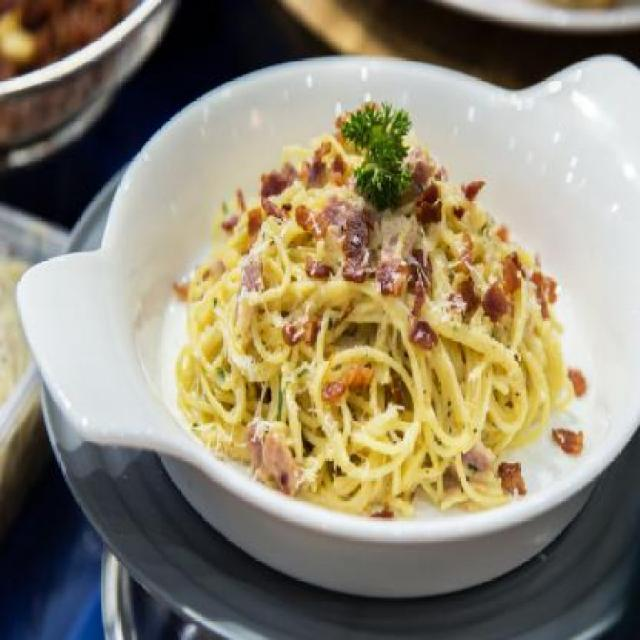Pasta with carbonara sauce: (157, 60, 600, 578)
